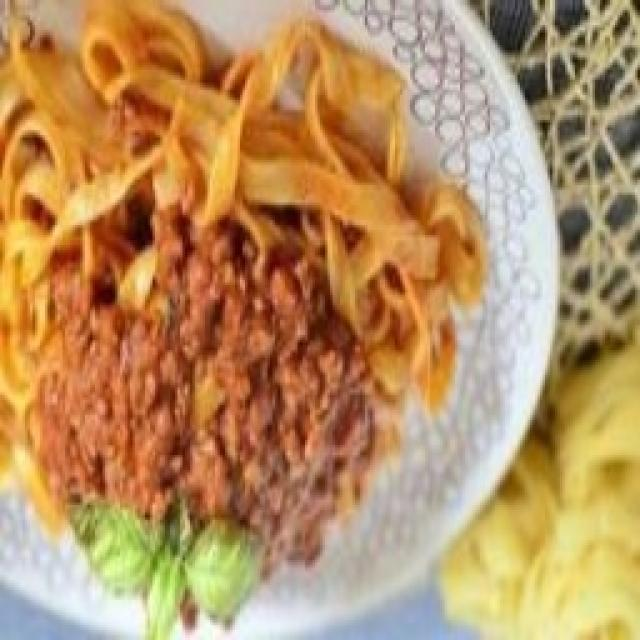Pasta: (0, 0, 485, 640)
